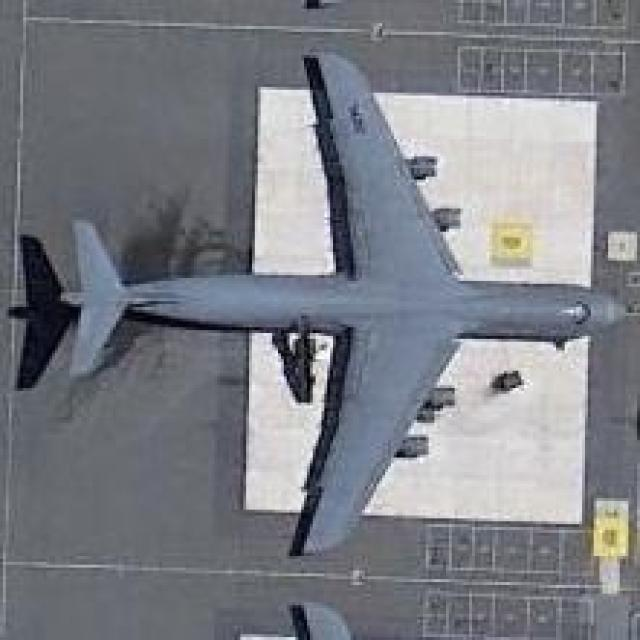C-5_TopDown: (3, 47, 631, 562)
